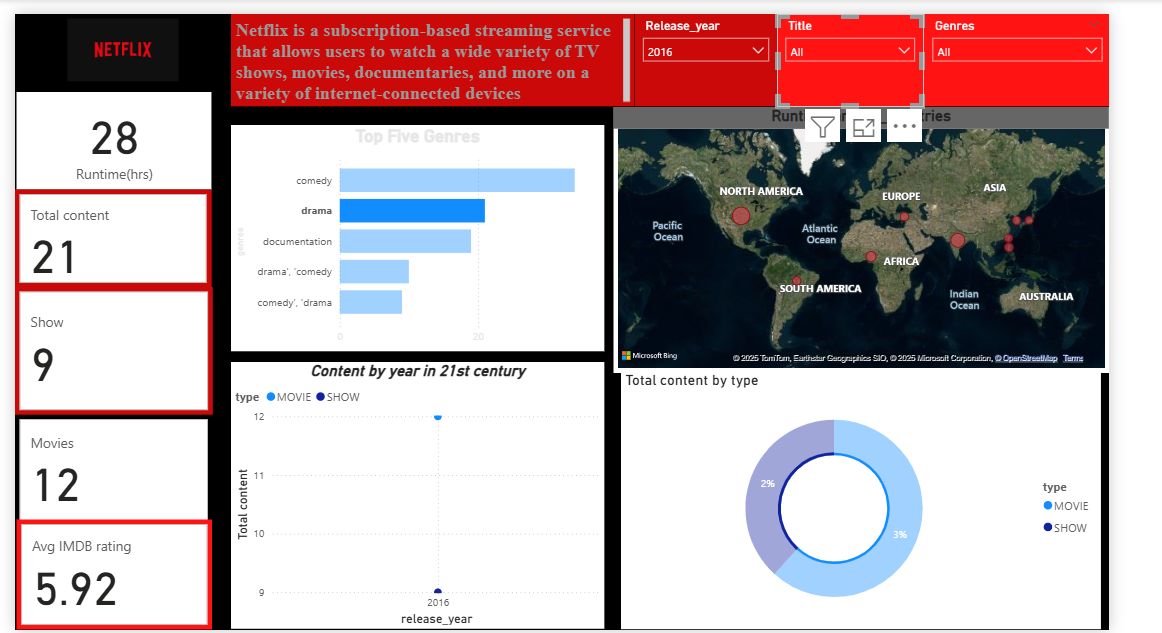

The dashboard page shown, as its layout file describes it:
{"tool":"powerbi","page":{"name":"Page 1","canvas":[1280,720],"ordinal":0},"visuals":[{"type":"card","fields":{"Values":["credits.Runtime(hrs)"]},"box":[1.8,91.2,228.1,114],"z":0},{"type":"cardVisual","fields":{"Data":["credits.Total content"]},"box":[0,205.3,229.8,114],"z":1000},{"type":"cardVisual","fields":{"Data":["credits.Movies"]},"box":[0,468.4,231.6,131.6],"z":2000},{"type":"cardVisual","fields":{"Data":["credits.Series"]},"box":[0,319.3,231.6,149.1],"z":3000},{"type":"cardVisual","fields":{"Data":["credits.Avg IMDB rating"]},"box":[2,591.8,228.6,128.6],"z":4000},{"type":"barChart","title":"Top Five Genres","fields":{"Category":["titles.genres"],"Y":["All measures.Total content"]},"box":[252.6,108.8,436.8,286],"z":5000},{"type":"lineChart","title":"Content by year in 21st century","fields":{"Category":["titles.release_year"],"Y":["All measures.Total content"],"Series":["titles.type"]},"box":[252.6,407,436.8,312.3],"z":6000},{"type":"map","title":"Runtime(hrs) by_countries","fields":{"Category":["titles.production_countries"],"Size":["All measures.Runtime(hrs)"]},"box":[700,108.2,579.6,310.2],"z":7000},{"type":"donutChart","fields":{"Category":["titles.type"],"Y":["All measures.Total content"]},"box":[700,417.5,578.9,301.8],"z":8000},{"type":"image","box":[0,0,253.1,83.7],"z":9000},{"type":"slicer","fields":{"Values":["titles.release_year"]},"box":[700,0,191.2,108.8],"z":9001},{"type":"slicer","fields":{"Values":["titles.title"]},"box":[891.8,0,171.4,108.2],"z":9002},{"type":"slicer","fields":{"Values":["titles.genres"]},"box":[1063.3,0,218.4,108.2],"z":9003},{"type":"textbox","box":[252.6,0,447.4,108.8],"z":9004}]}

Visuals, with their boxes on the page's 1280x720 design canvas (x1, y1, x2, y2). These are canvas units, not pixel positions in the 1162x633 screenshot, which may show the page scaled, cropped or inside an application window:
card - credits.Runtime(hrs): (2, 91, 230, 205)
cardVisual - credits.Total content: (0, 205, 230, 319)
cardVisual - credits.Movies: (0, 468, 232, 600)
cardVisual - credits.Series: (0, 319, 232, 468)
cardVisual - credits.Avg IMDB rating: (2, 592, 231, 720)
"Top Five Genres" barChart: (253, 109, 689, 395)
"Content by year in 21st century" lineChart: (253, 407, 689, 719)
"Runtime(hrs) by_countries" map: (700, 108, 1280, 418)
donutChart - titles.type x All measures.Total content: (700, 418, 1279, 719)
image: (0, 0, 253, 84)
slicer - titles.release_year: (700, 0, 891, 109)
slicer - titles.title: (892, 0, 1063, 108)
slicer - titles.genres: (1063, 0, 1282, 108)
textbox: (253, 0, 700, 109)
